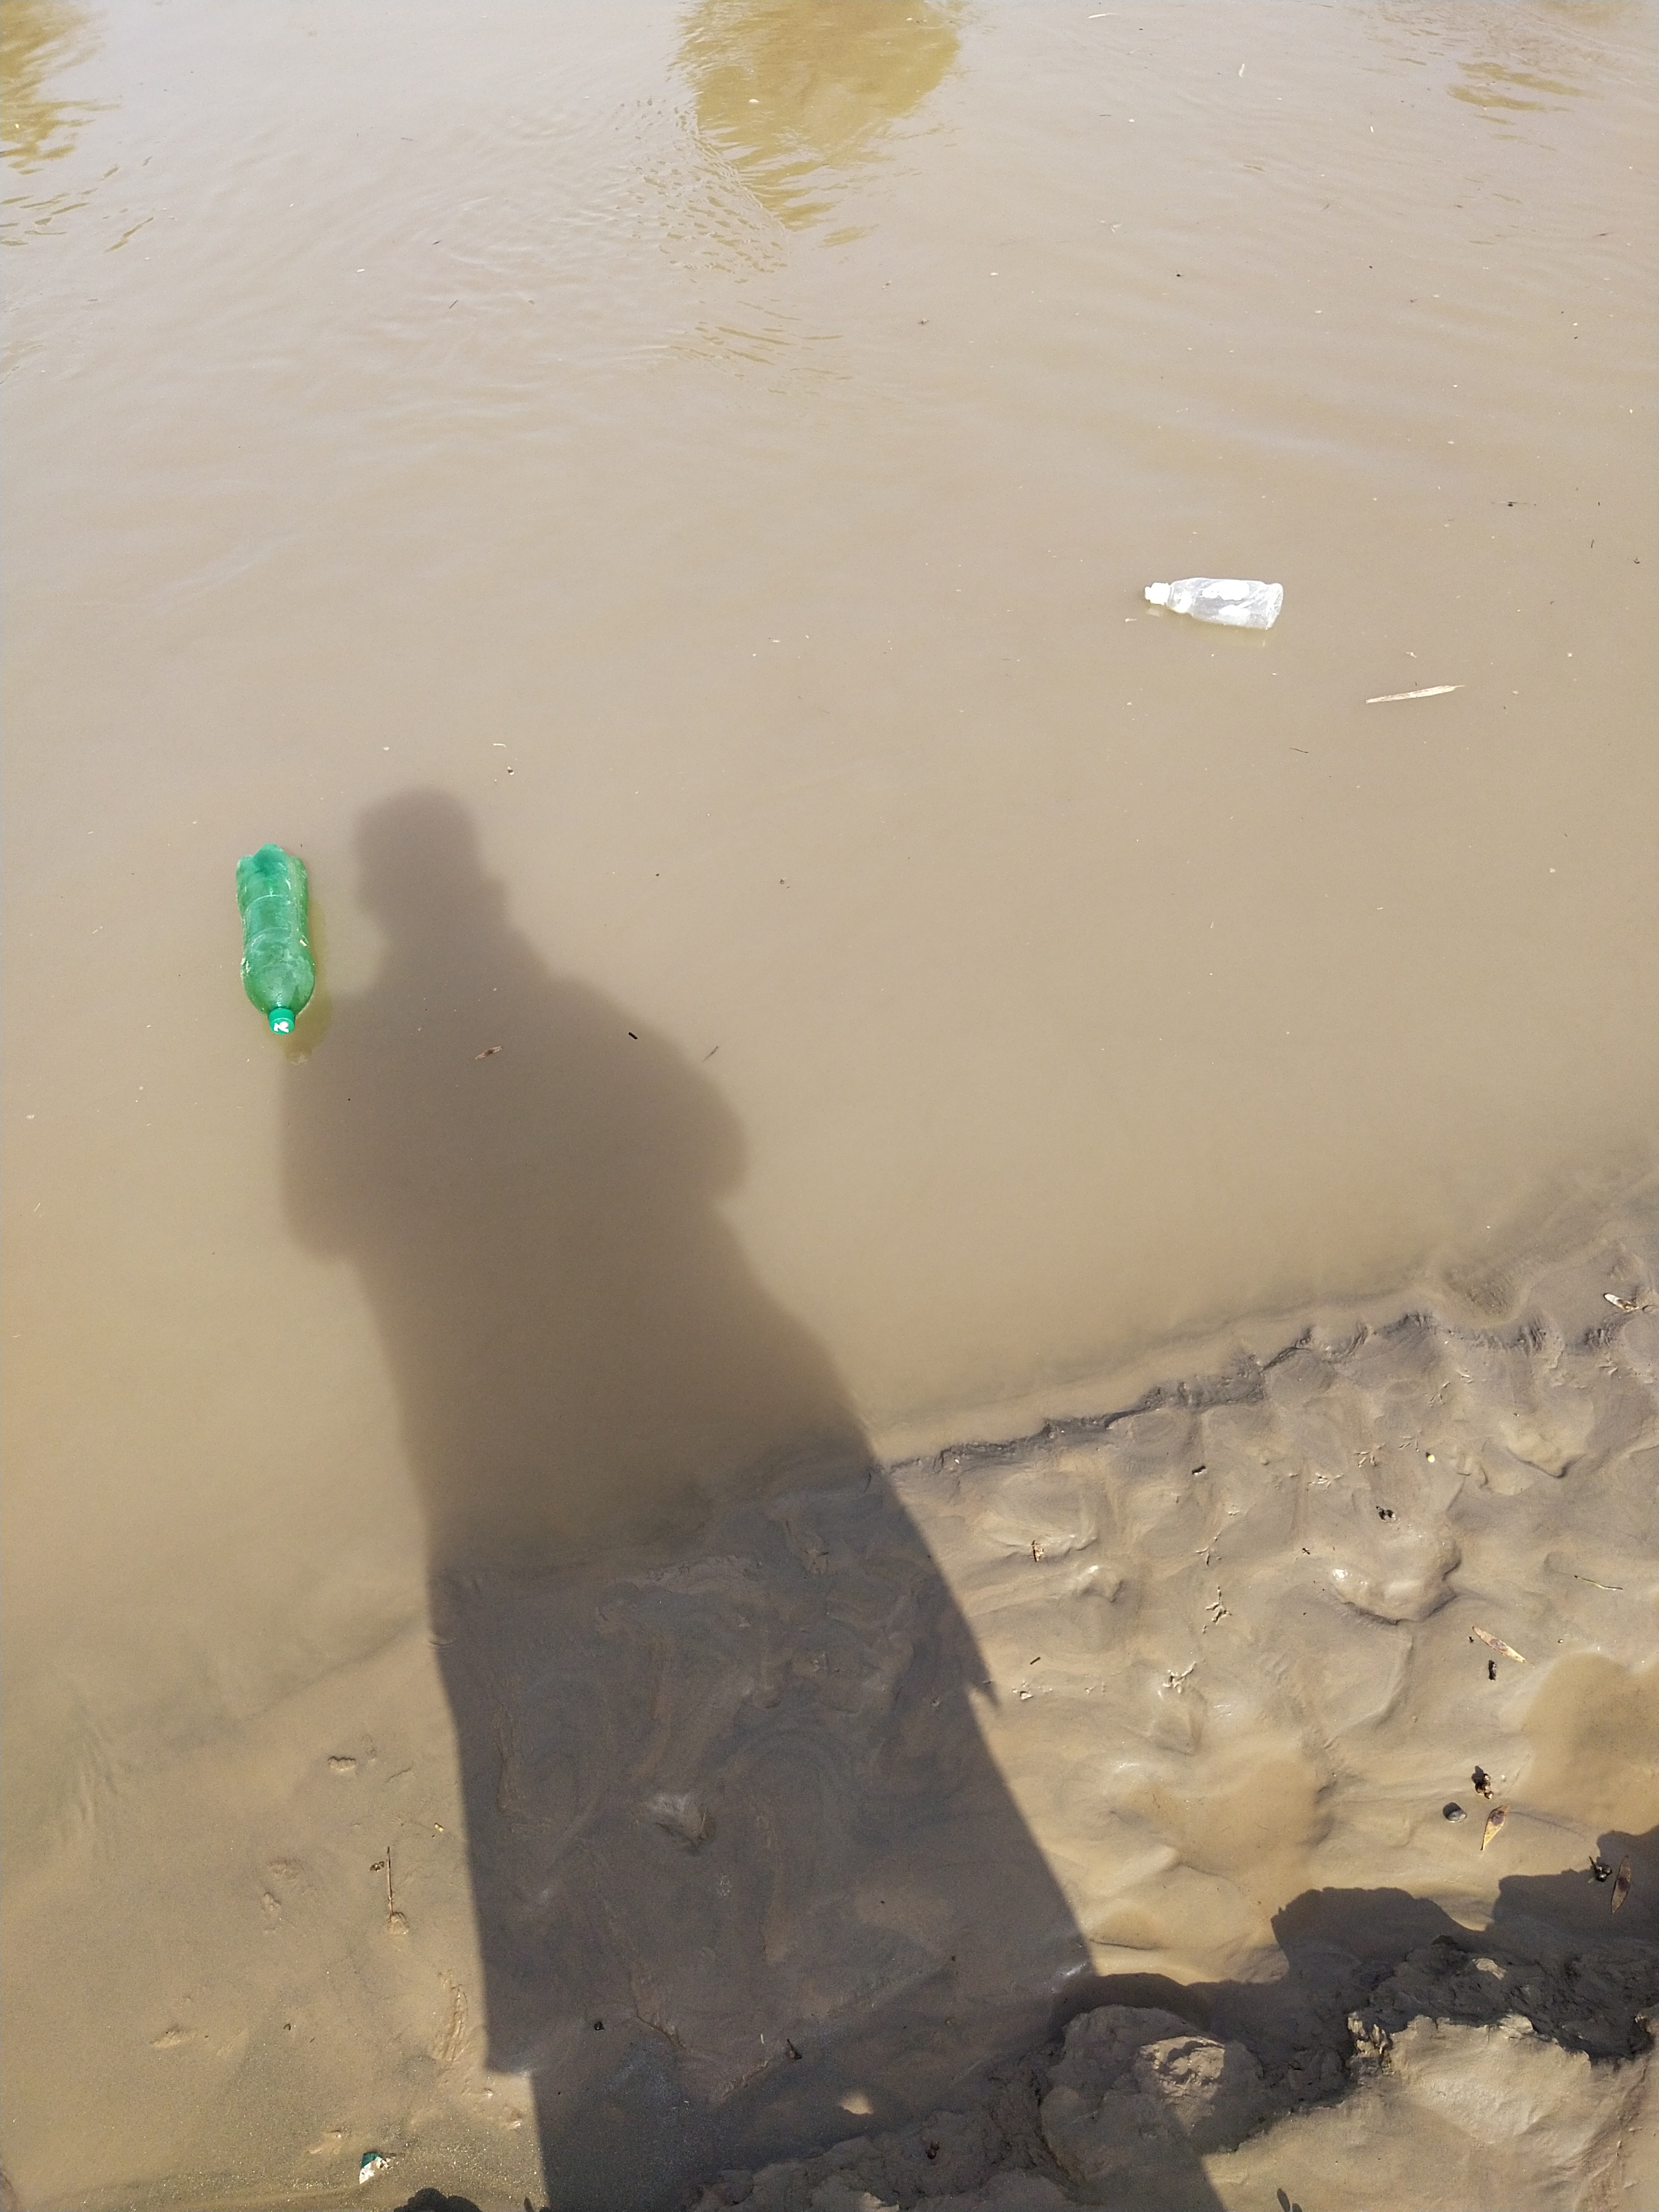Plastic Bottle: (235, 843, 314, 1035), (1143, 577, 1283, 629)
